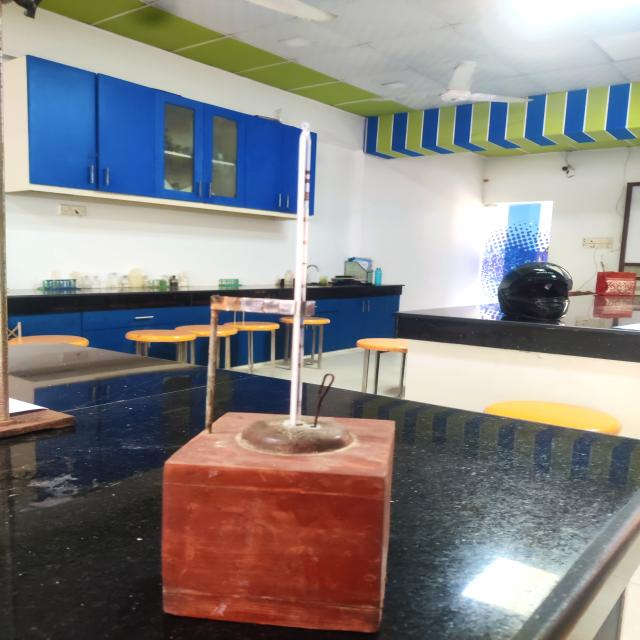Calorimeter: (122, 104, 447, 640)
